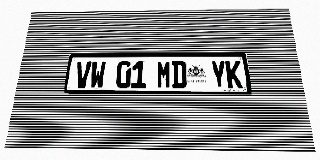0: (116, 61, 131, 88)
1: (131, 61, 146, 88)
D: (172, 61, 187, 88)
K: (225, 60, 243, 88)
M: (156, 61, 171, 88)
V: (74, 61, 91, 88)
W: (89, 61, 106, 88)
Y: (210, 60, 227, 88)
